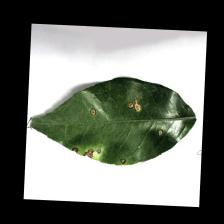canker: (54, 100, 164, 176)
